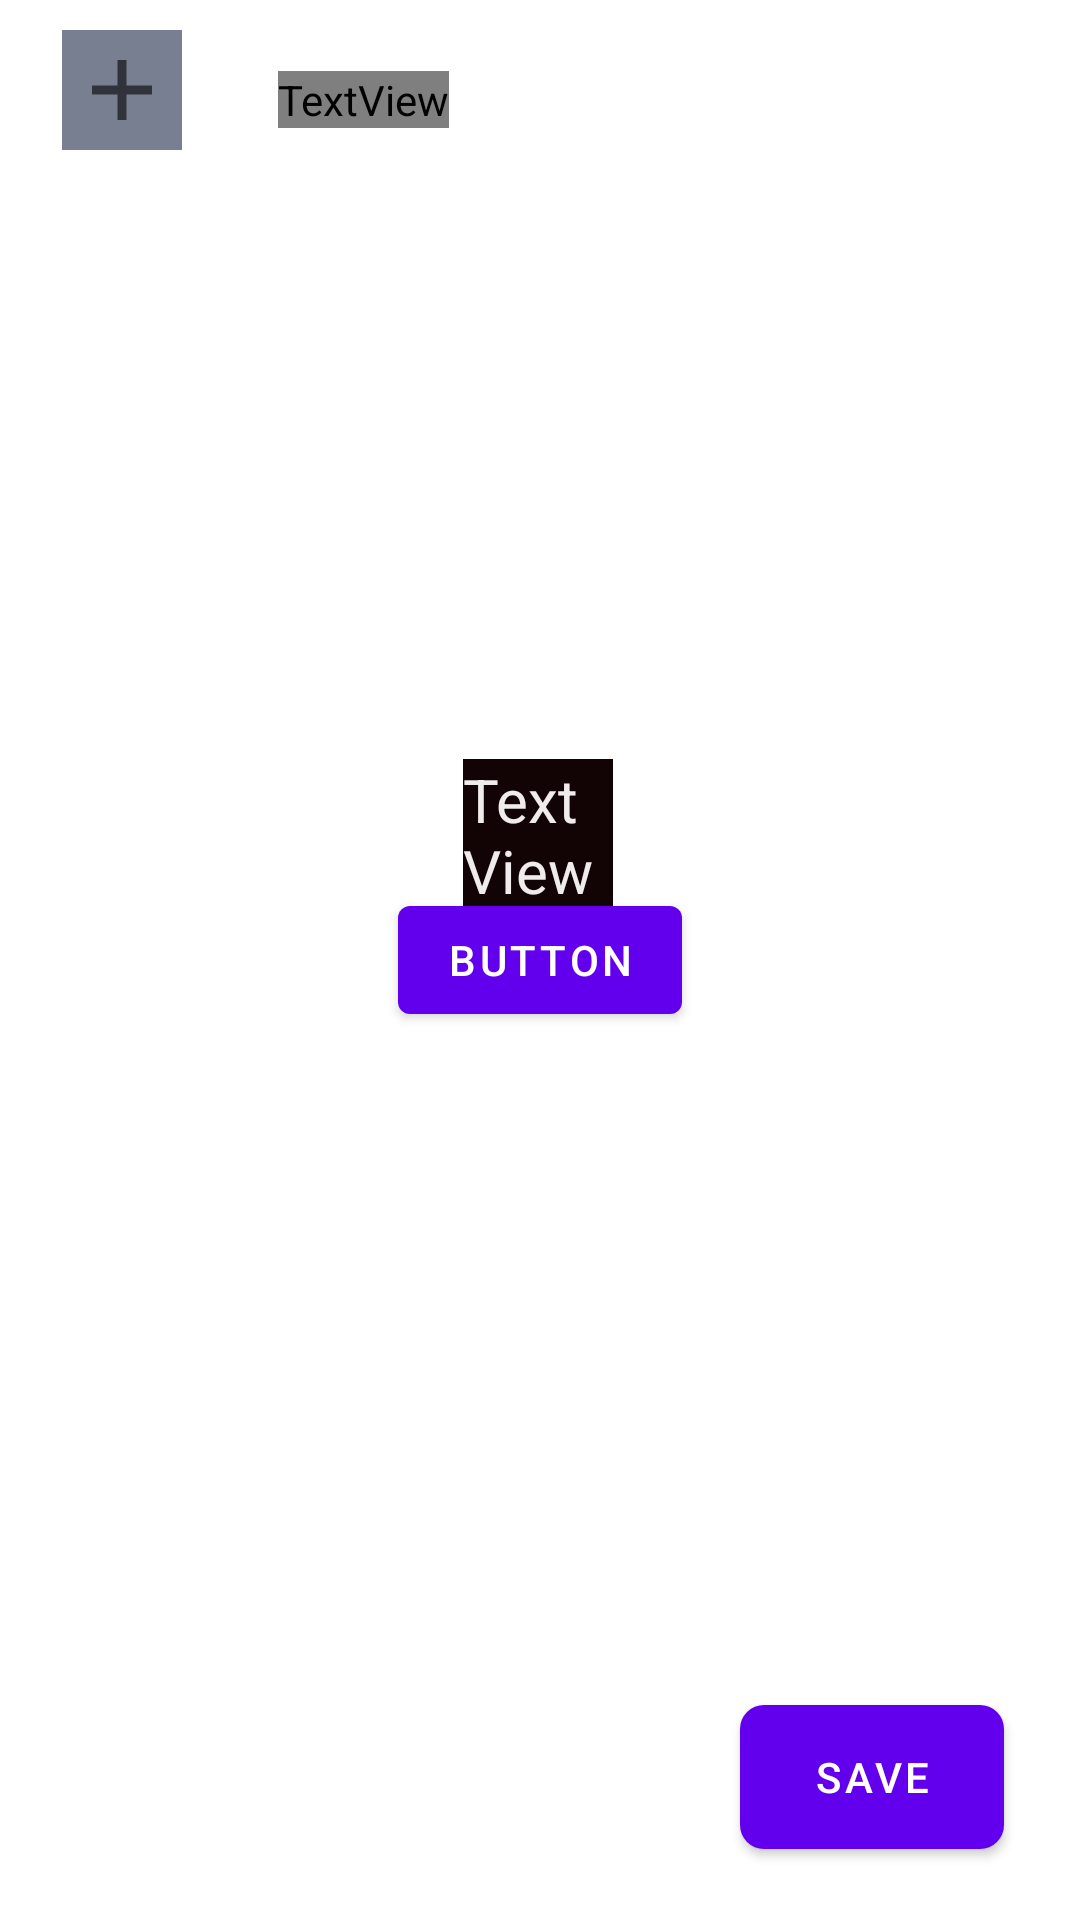

Icons on this 1080w x 1920h Android screen, each with its box as (x1, y1, x2, y2):
add: (62, 30, 182, 150)
